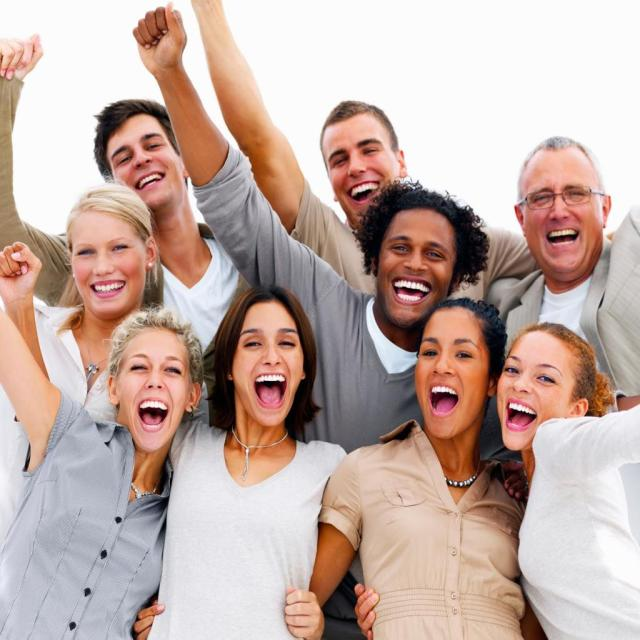Face: (486, 320, 603, 437), (376, 187, 462, 334), (513, 151, 608, 281), (236, 296, 320, 432), (416, 311, 497, 452), (121, 332, 201, 452), (315, 116, 403, 211), (93, 117, 180, 203), (70, 220, 147, 317)
